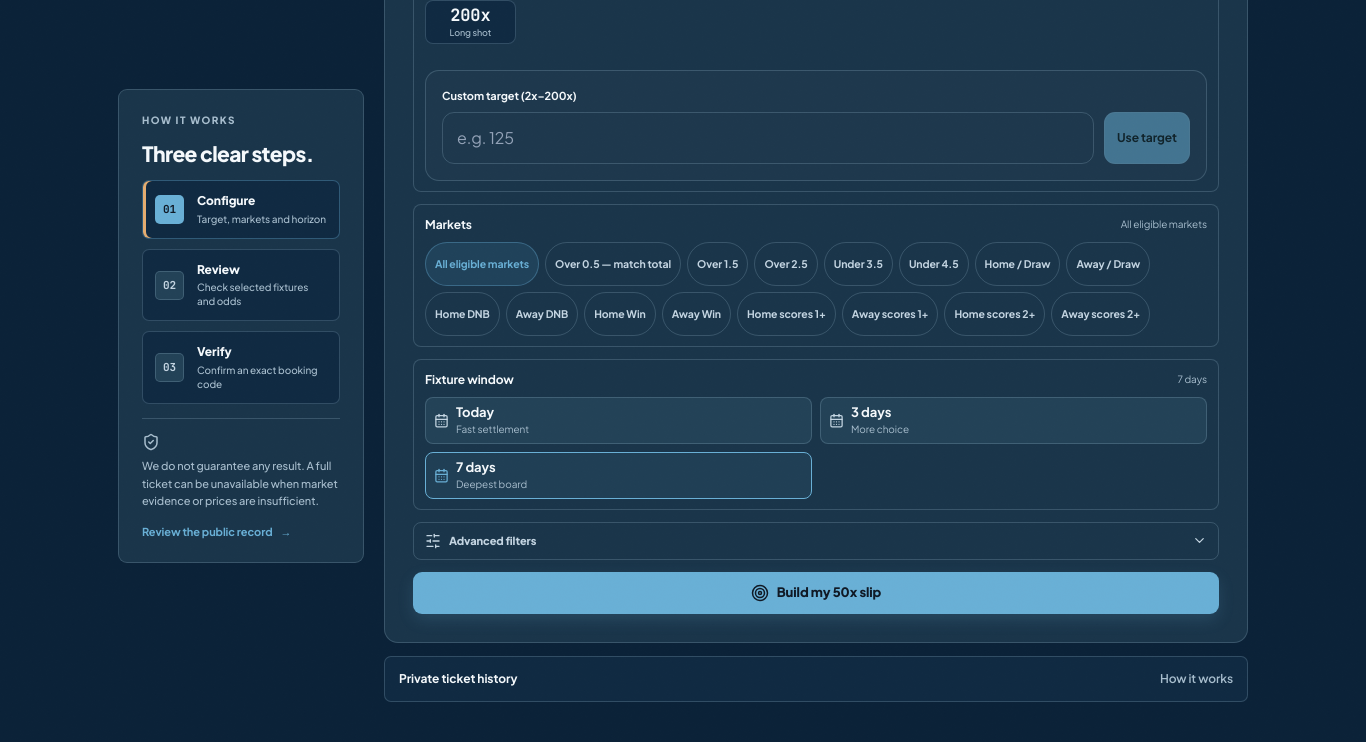
Test: does not claim a request started a refresh when production reports none
This screenshot has width=1366, height=742.
(page scrolled)
Click the button "Today Fast settlement". click: click(475, 412)
box: [425,397,812,444]
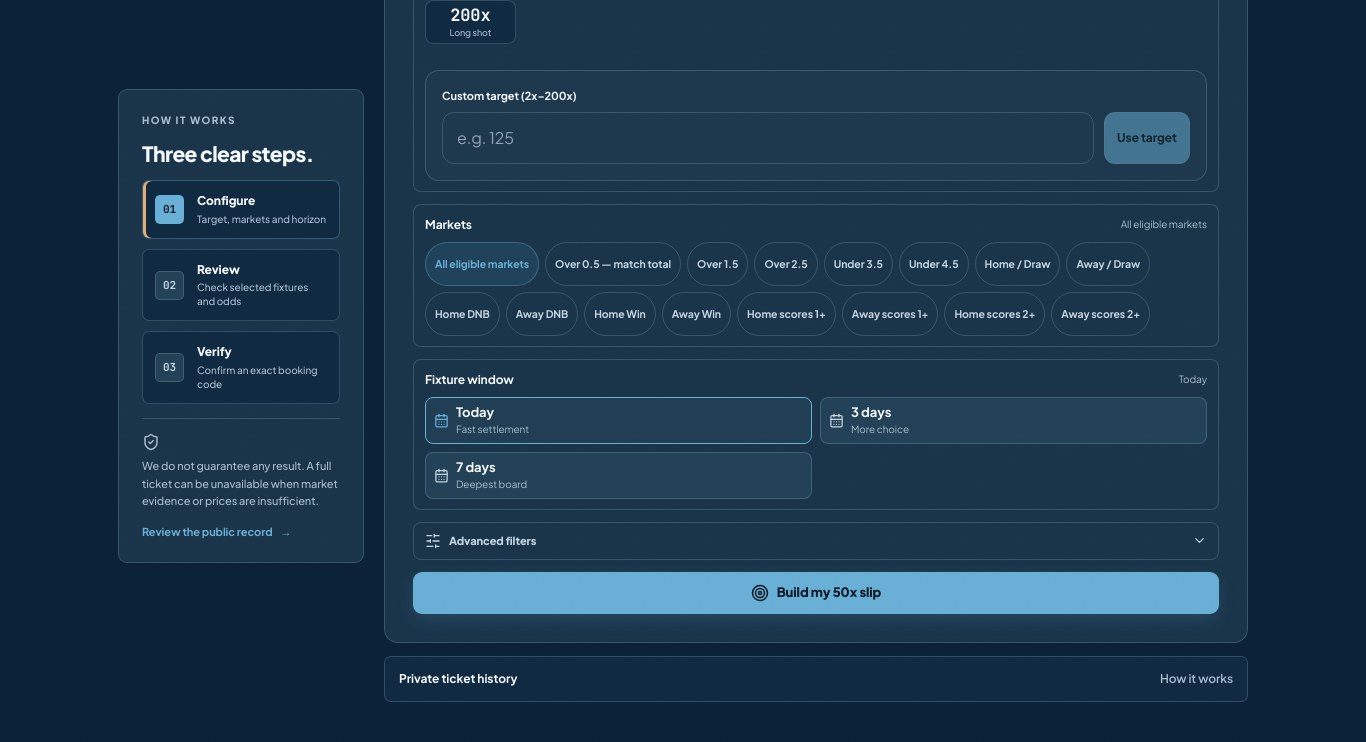
Click the button "Build my 50x slip". click: click(816, 592)
box: [413,572,1219,614]
(page scrolled)
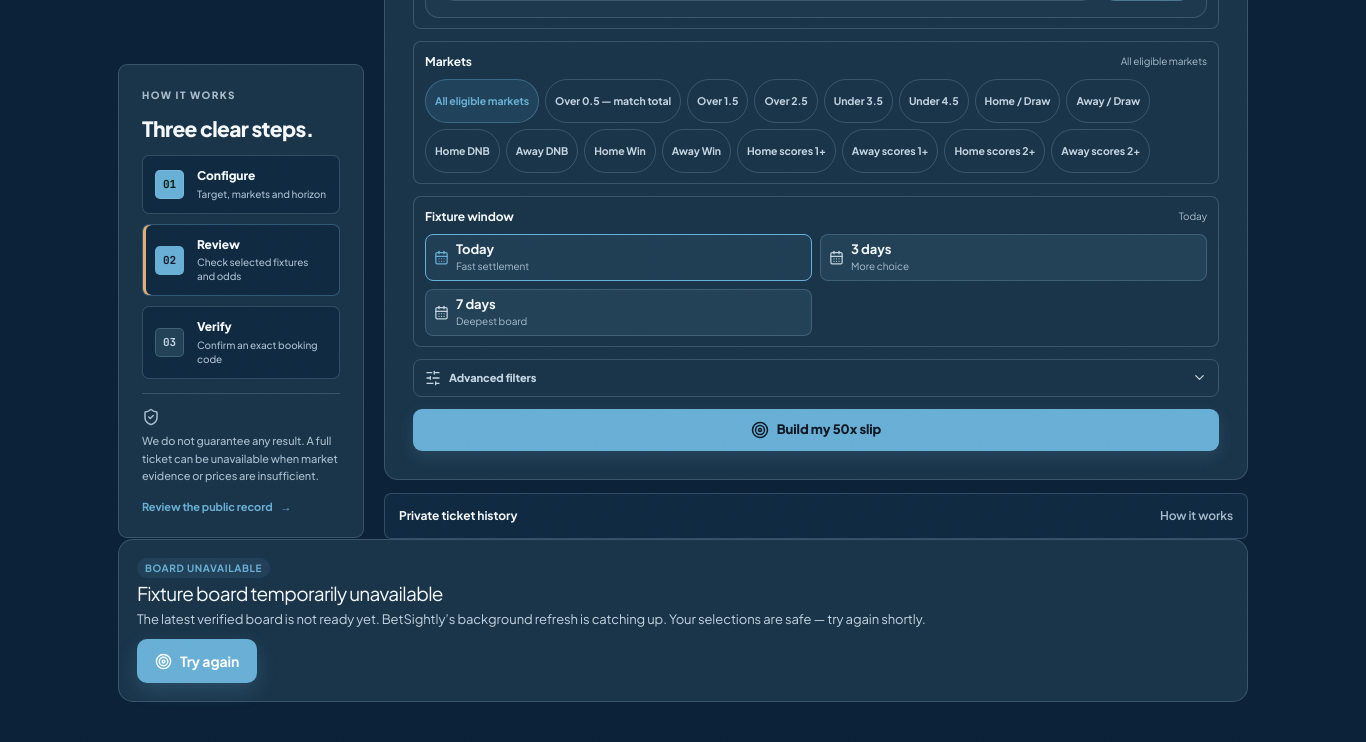
Now the heading "Fixture board temporarily unavailable" is shown, box [137,580,443,604]
Now the text "background refresh is catching up" is shown, box [137,611,926,627]
